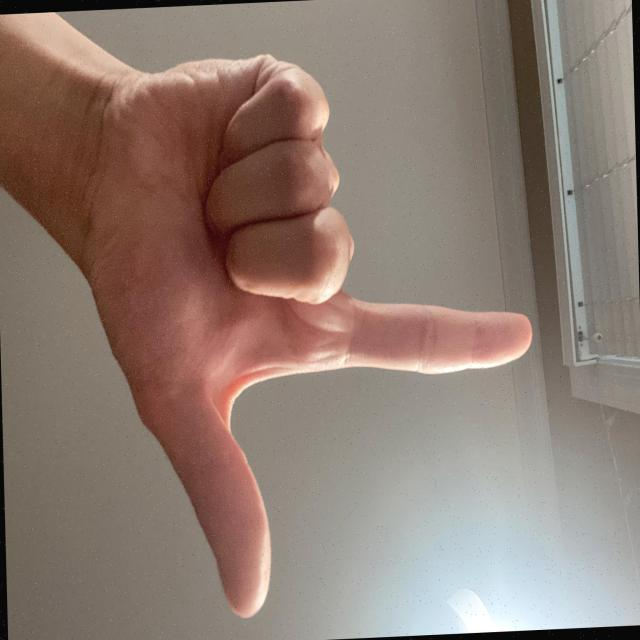L: (172, 125, 636, 640)
